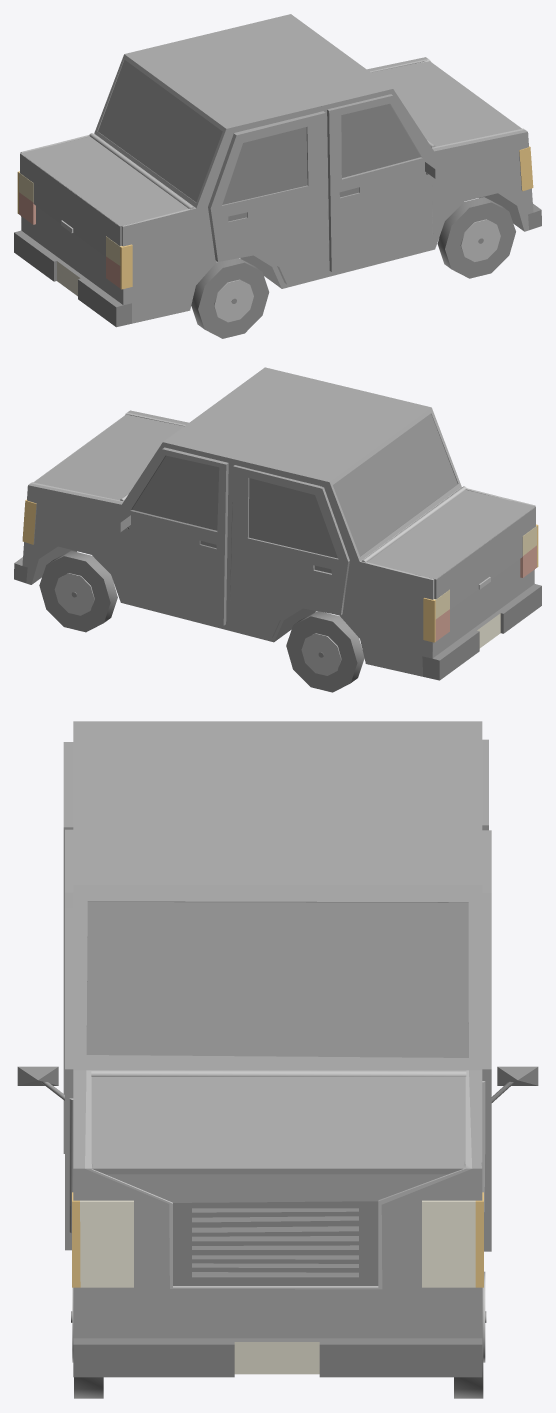
Rendered from kar21.fbx.
The picture shows the model from 3 angles, top to bottom: view 1: azimuth 30°, elevation 25°; view 2: azimuth 150°, elevation 25°; view 3: azimuth 270°, elevation 25°; orthographic projection. The views are drawn at different scales.
Parts seen in each view (by area): view 1: Cube_2, Cylinder_4, Cylinder, Cylinder_1, Boole, Cylinder_6, Cylinder_9; view 2: Cube_2, Cylinder_10, Cylinder_5, Cylinder_1, Boole, Cylinder_7, Cylinder_8; view 3: Cube_2, Boole, Cylinder_5, Cylinder, Cylinder_4, Cylinder_7, Cylinder_6.
Part boxes in pixels (x1,y1,x2,y2): Cube_2: [14, 14, 541, 327]; Cylinder_4: [208, 111, 328, 284]; Cylinder: [327, 94, 435, 271]; Cylinder_1: [20, 133, 194, 256]; Boole: [371, 61, 521, 147]; Cylinder_6: [437, 197, 515, 278]; Cylinder_9: [191, 258, 269, 338]; Cube_2: [14, 367, 541, 680]; Cylinder_10: [230, 465, 349, 638]; Cylinder_5: [120, 447, 228, 625]; Cylinder_1: [361, 486, 535, 609]; Boole: [33, 414, 183, 501]; Cylinder_7: [39, 550, 117, 632]; Cylinder_8: [286, 611, 364, 692]; Cube_2: [72, 721, 483, 1377]; Boole: [91, 1070, 466, 1285]; Cylinder_5: [482, 830, 538, 1251]; Cylinder: [17, 829, 73, 1250]; Cylinder_4: [63, 742, 73, 1153]; Cylinder_7: [454, 1271, 486, 1398]; Cylinder_6: [71, 1287, 103, 1398].
Bounding box in the file's own units: 457 × 215 × 242.
